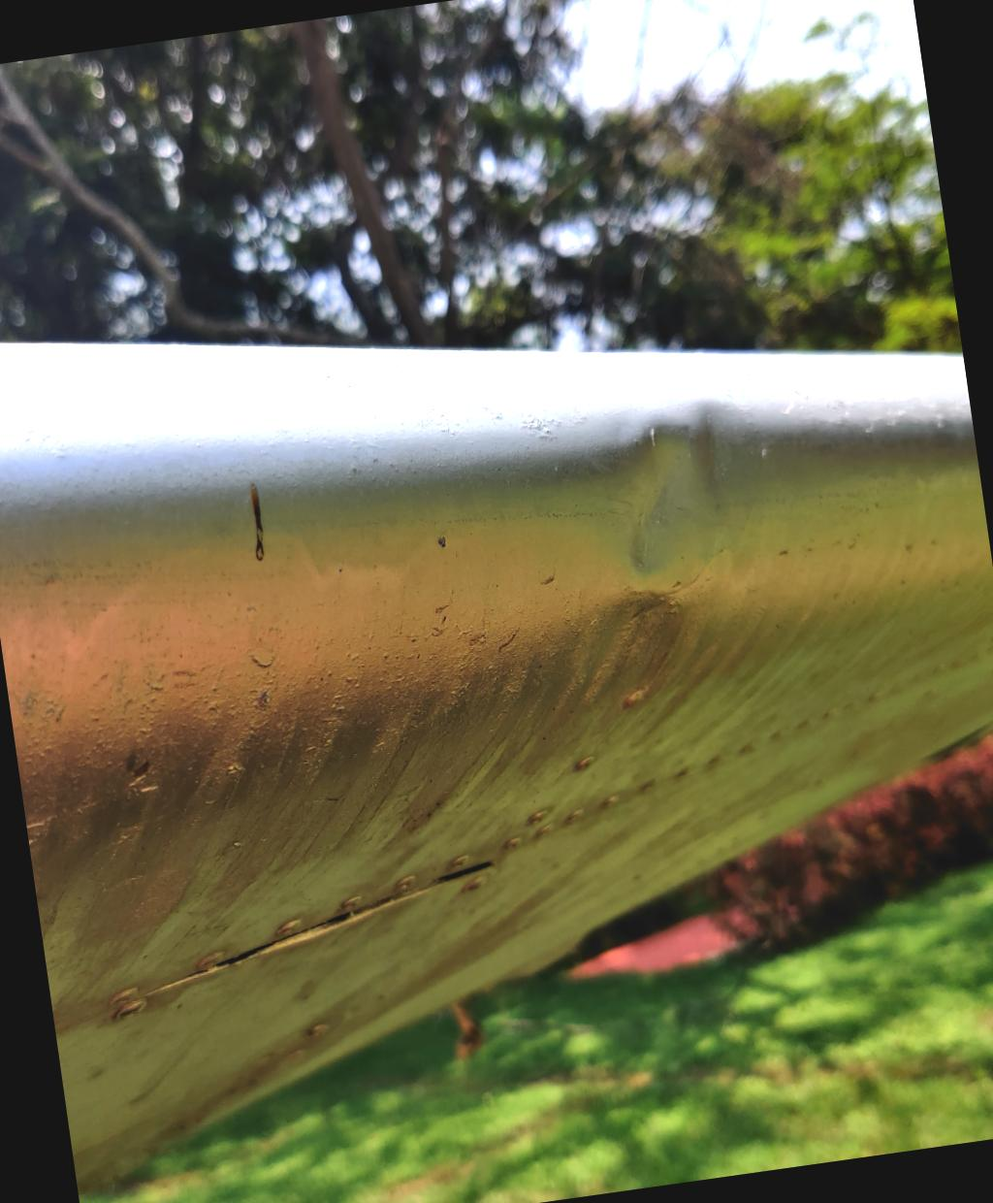dent: (561, 358, 785, 629)
